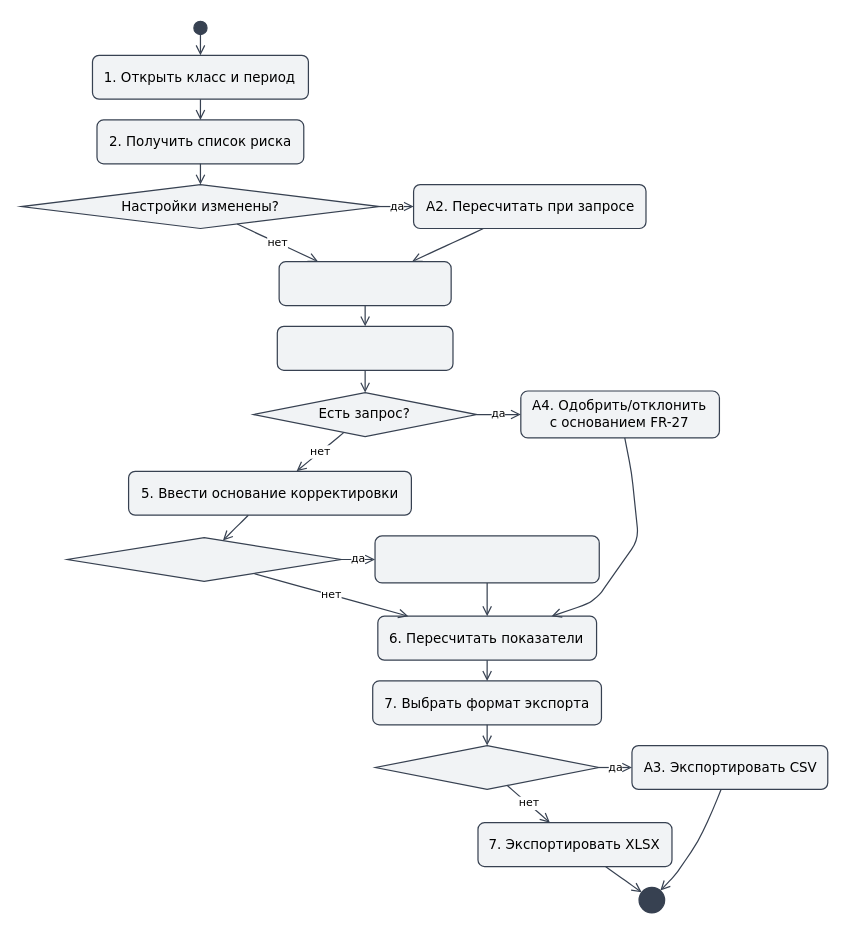
Image size: 849x935. Some labels were removed from this diagram. The centre of each missing label's shape, as x and y in pixels:
"3. Открыть карточку" belongs at point 364,283.
"4. Занятия и запросы" belongs at point 364,347.
"А1. Ручное присутствие; только начавшееся занятие" belongs at point 486,559.
"Выбран CSV?" belongs at point 486,766.
"Нет смартфона?" belongs at point 203,558.
